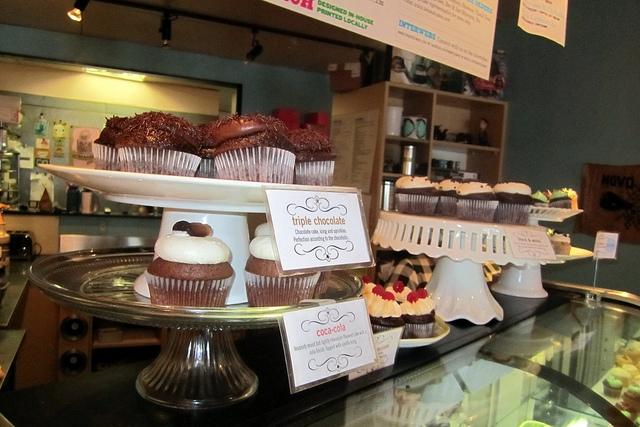cherry: (392, 280, 404, 294), (372, 284, 384, 296), (407, 292, 419, 304), (382, 292, 395, 302), (417, 288, 428, 299), (361, 276, 371, 284)
